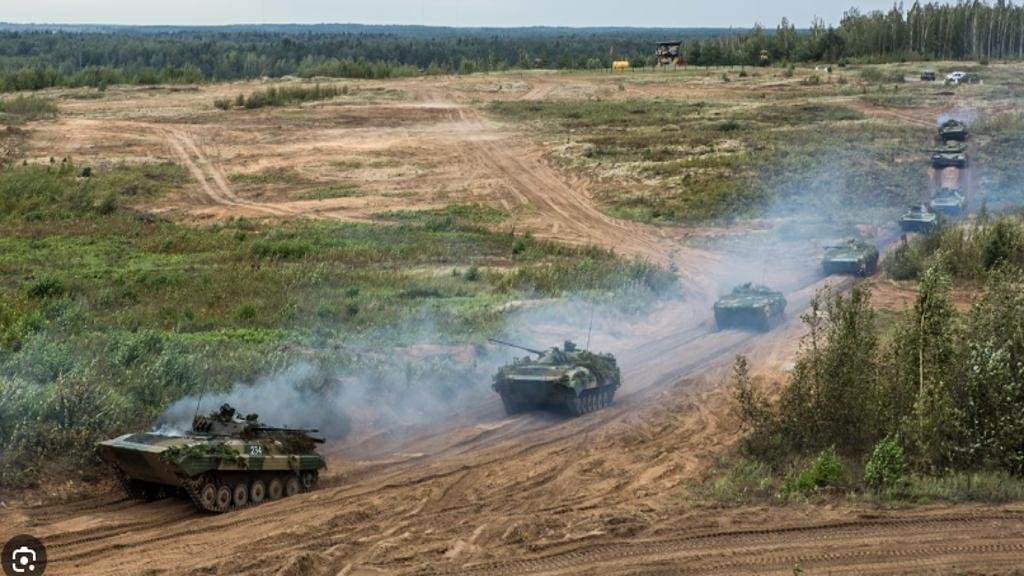APC-IFV: (93, 403, 326, 514), (483, 332, 620, 416), (711, 280, 787, 332), (817, 237, 881, 275), (929, 186, 968, 216), (896, 204, 935, 234), (940, 117, 967, 137)
TANK: (916, 142, 967, 167)
